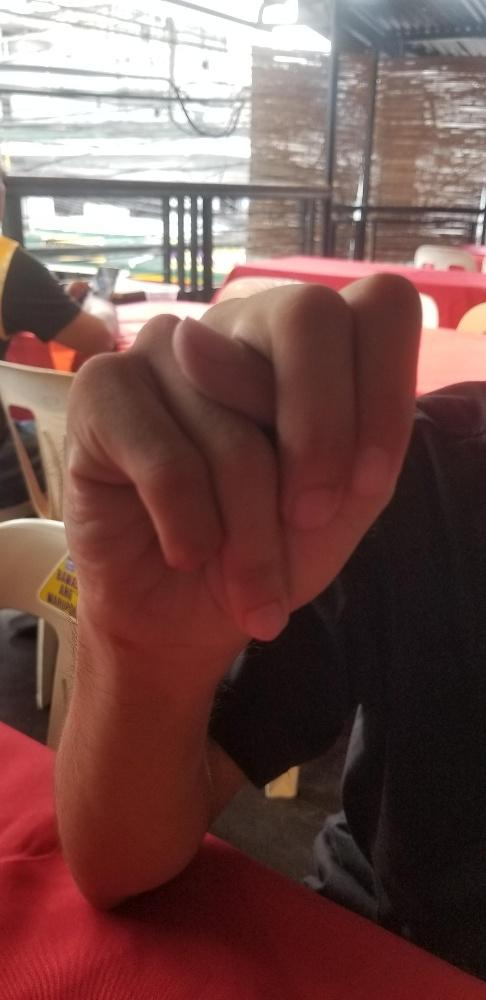n: (60, 267, 423, 650)
